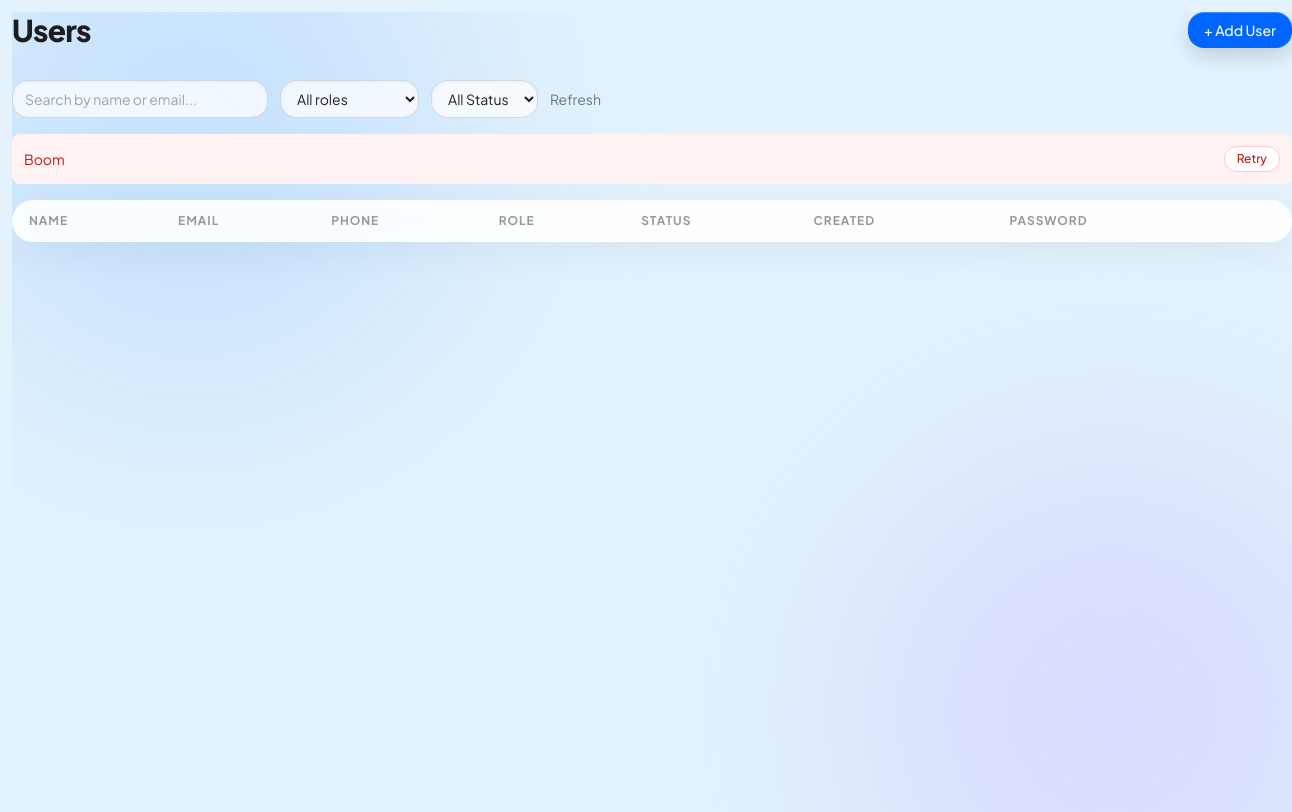
it: UsersListPage - role filter driven by the URL (Manage Users / Manage Admins) › shows the server error with a Retry button that refetches
Expected: the text "Boom" is shown, 24,149 -> 65,169
Click the button "Retry": {"x": 1252, "y": 159} 1224,146 -> 1280,172
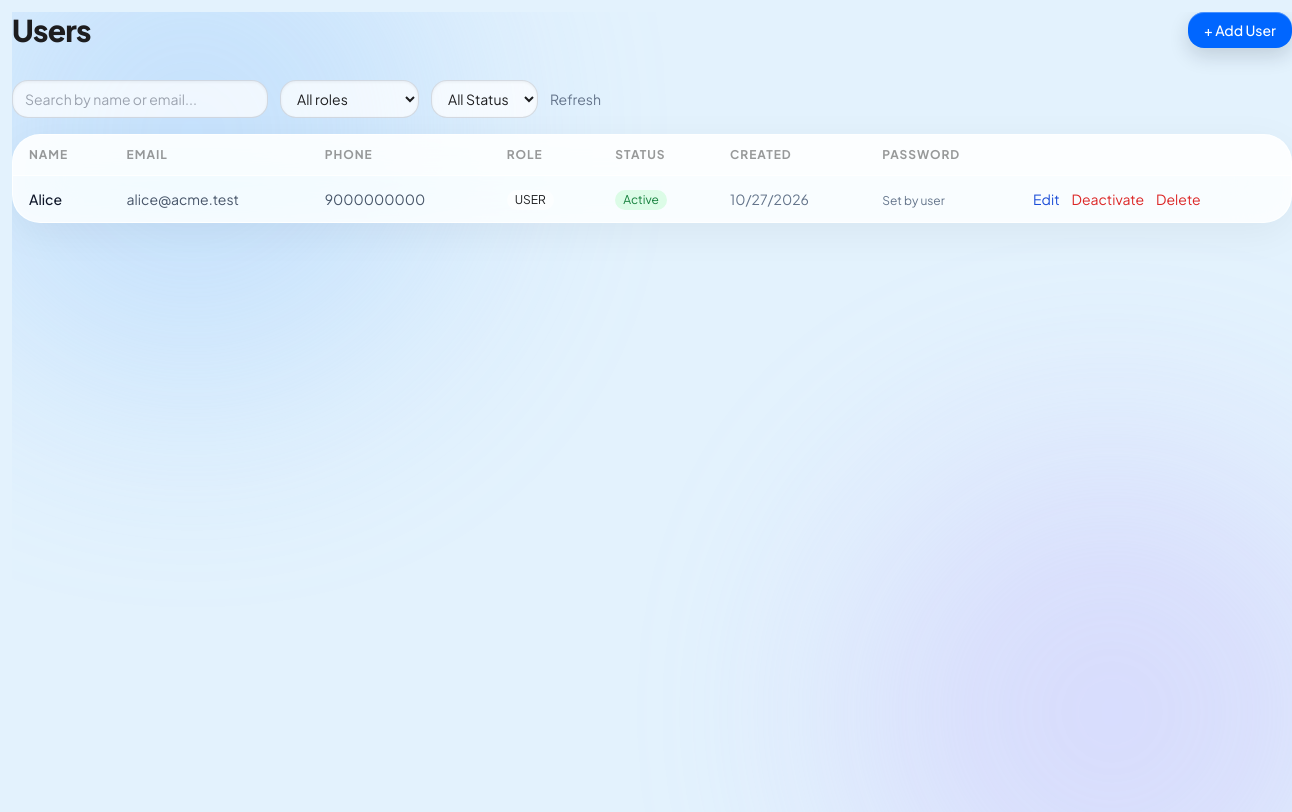
Result: the text "Alice" is shown at 13,176 -> 111,222
